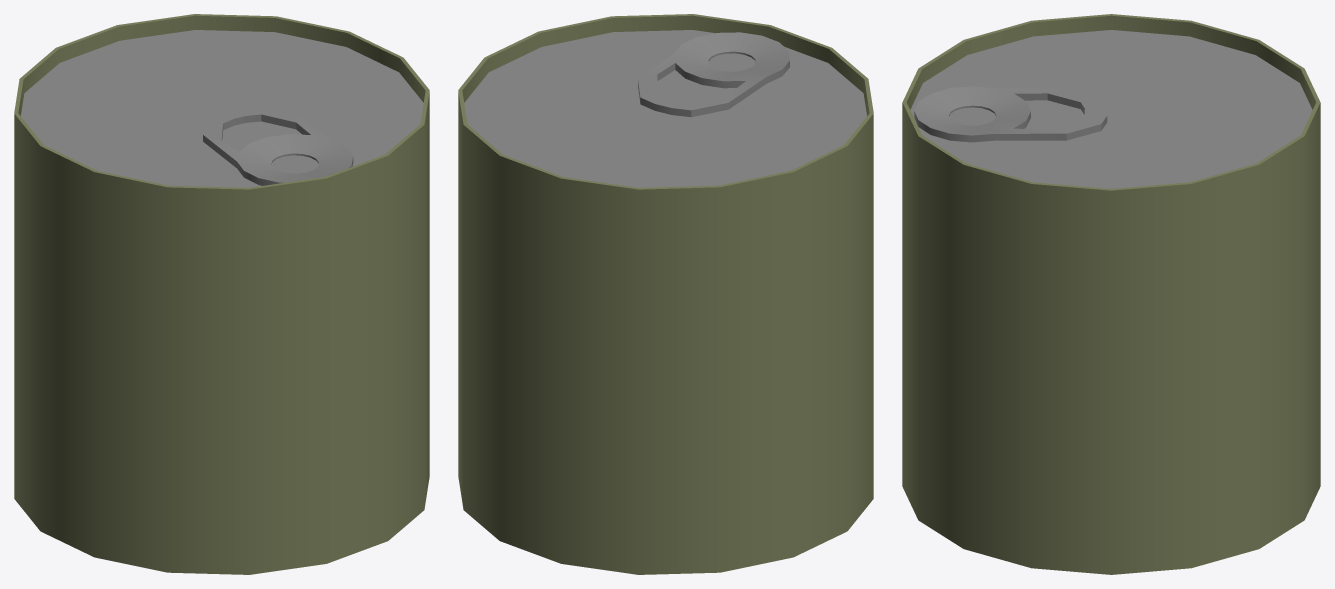
File: Latas.fbx
The picture shows the model from 3 angles, left to right: view 1: azimuth 30°, elevation 25°; view 2: azimuth 150°, elevation 25°; view 3: azimuth 270°, elevation 25°; orthographic projection.
Visible parts, largest first — view 1: Lata, Tampa; view 2: Lata, Tampa; view 3: Lata, Tampa.
Part boxes in pixels (x1=…): Lata: x1=14, y1=14, x2=429, y2=574; Tampa: x1=21, y1=30, x2=423, y2=187; Lata: x1=458, y1=14, x2=873, y2=574; Tampa: x1=464, y1=30, x2=866, y2=187; Lata: x1=902, y1=14, x2=1320, y2=574; Tampa: x1=910, y1=30, x2=1312, y2=188.
Bounding box in the file's own units: 200 × 203 × 200.
